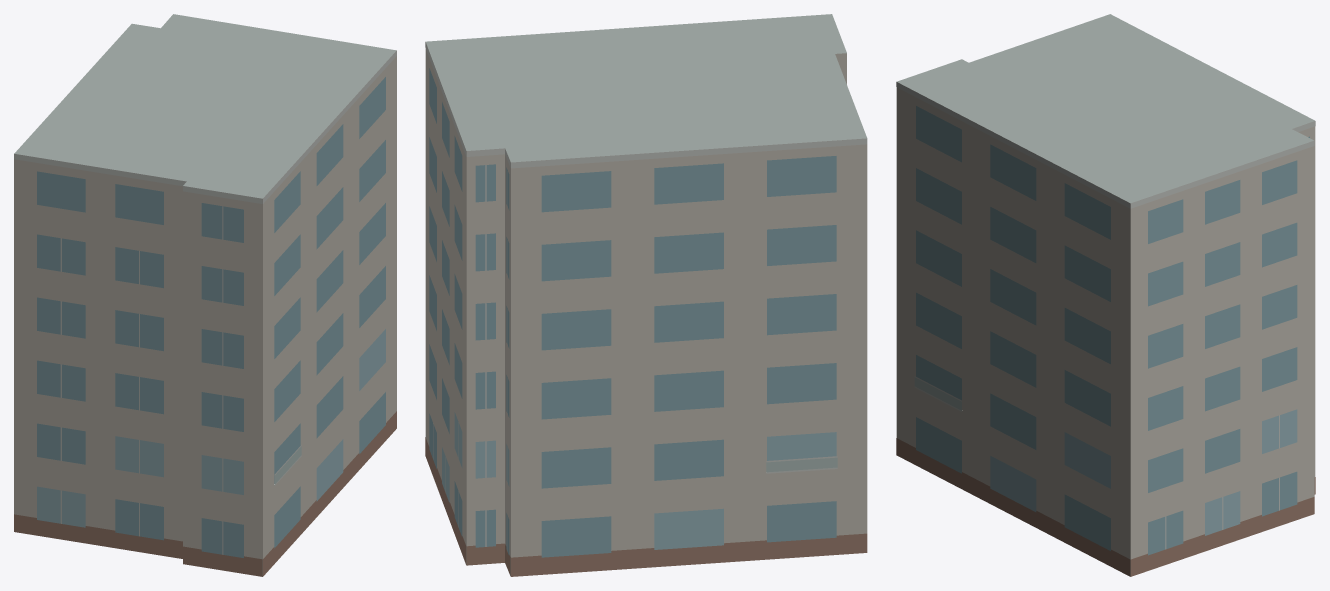
The model's file is survey-upis-32739276.glb.
3 views of the same model, side by side, from view 1: azimuth 30°, elevation 25°; view 2: azimuth 150°, elevation 25°; view 3: azimuth 270°, elevation 25° (orthographic). The views are drawn at different scales.
Parts seen in each view (by area): view 1: survey-upis-32739276.tmp; view 2: survey-upis-32739276.tmp; view 3: survey-upis-32739276.tmp.
Boxes of the visible parts, box(x1,y1,x2,y2) form: survey-upis-32739276.tmp: box(14, 14, 396, 576); survey-upis-32739276.tmp: box(425, 14, 867, 576); survey-upis-32739276.tmp: box(896, 14, 1315, 576).
Size of the model in its own units: 18.41 by 16.92 by 17.21.
